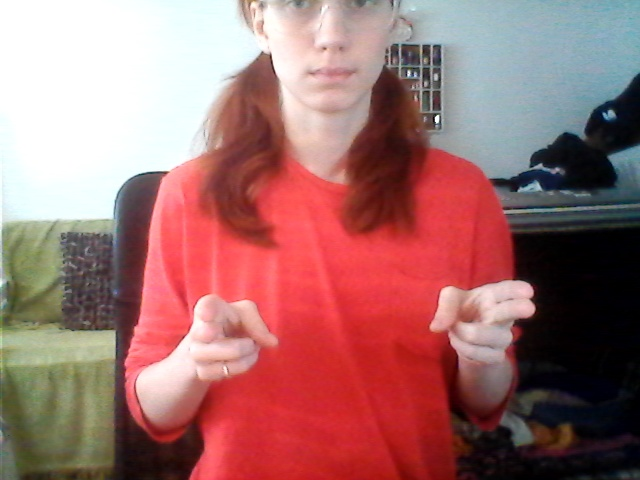ako: (183, 260, 543, 398)
